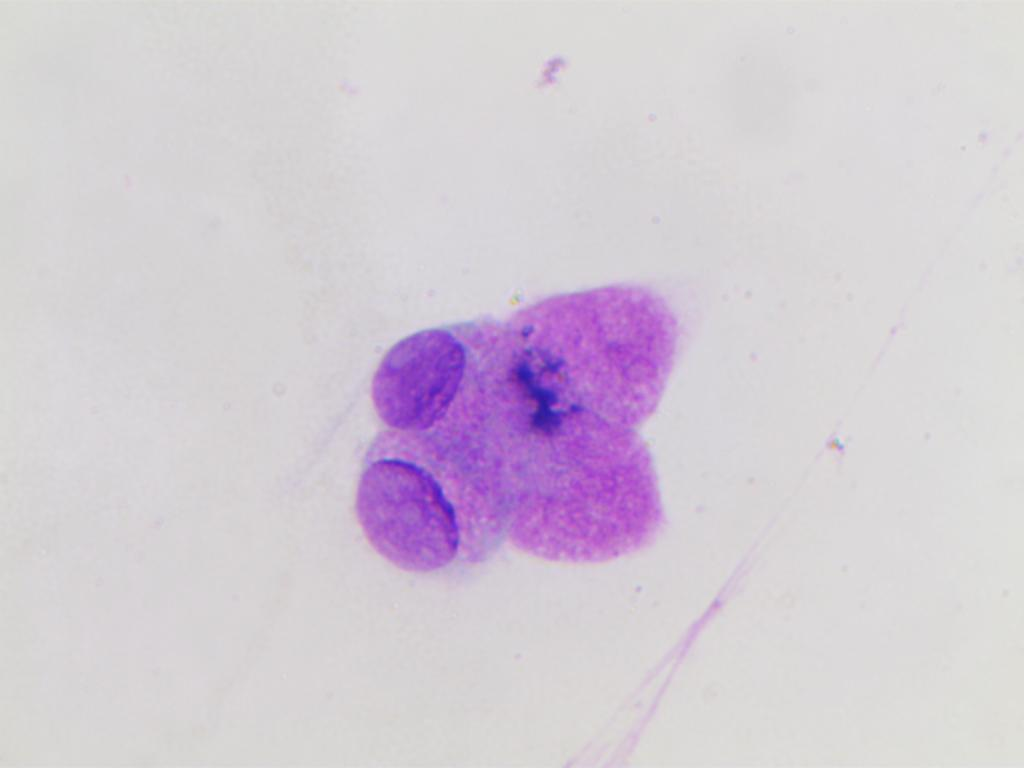goblet_cell: (365, 310, 598, 444), (350, 431, 585, 563)
